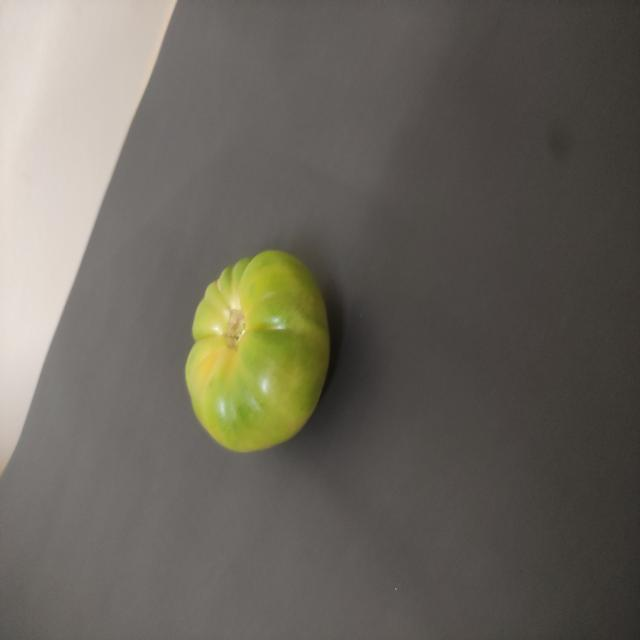unripe tomato: (173, 249, 335, 464)
